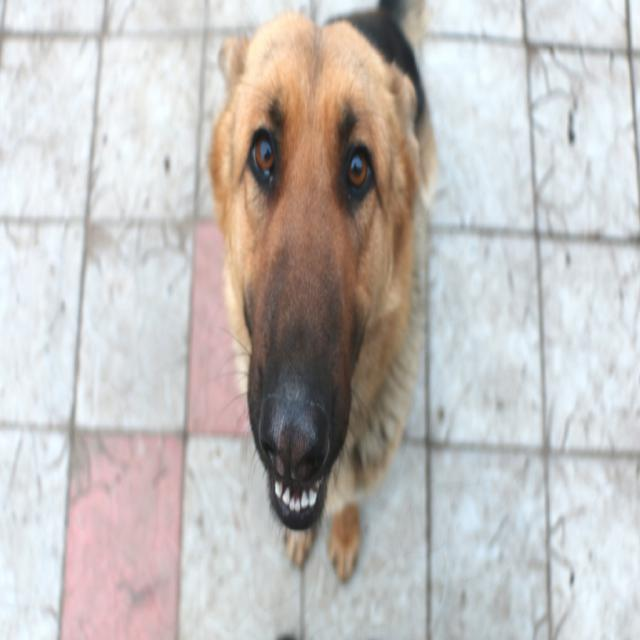eye: (249, 125, 279, 183), (344, 141, 374, 194)
